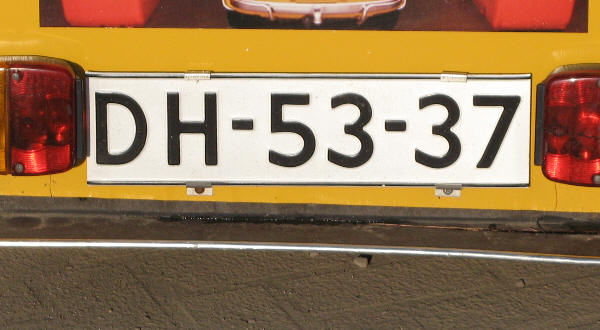license_plate: (84, 71, 530, 189)
